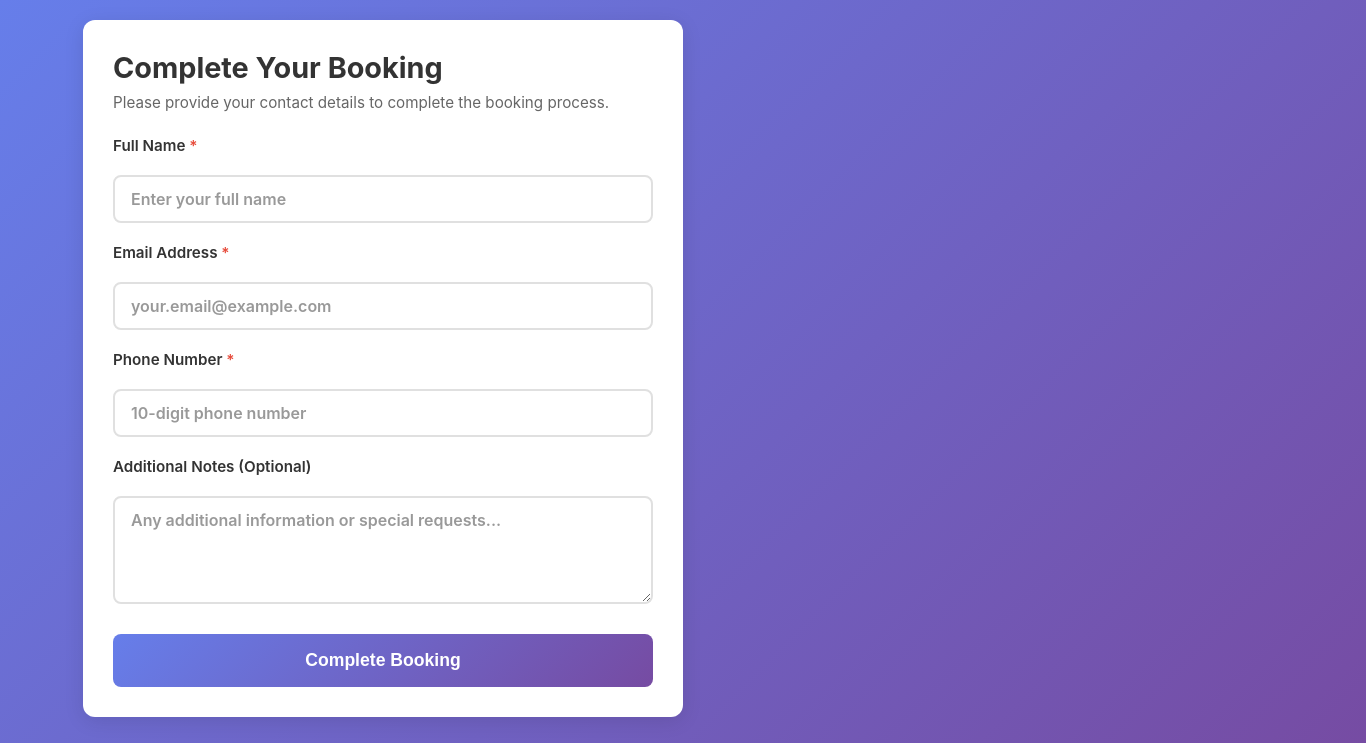
Scenario: ContactForm › validates required fields
The width and height of the screenshot is (1366, 743).
Click the button "Complete Booking" at (383, 660), box [113,634,653,687]
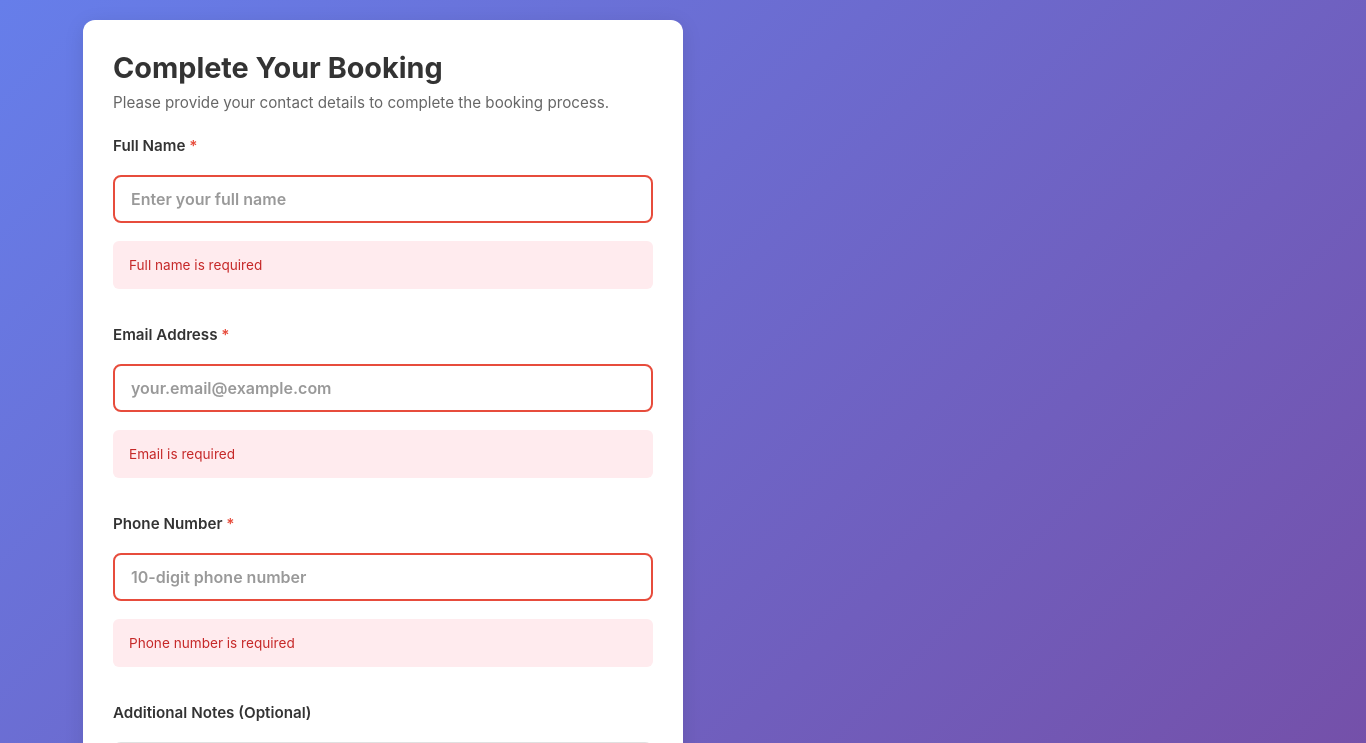
expect the text "Full name is required" is shown: met, box [113,241,653,289]
expect the text "Email is required" is shown: met, box [113,430,653,478]
expect the text "Phone number is required" is shown: met, box [113,619,653,667]
